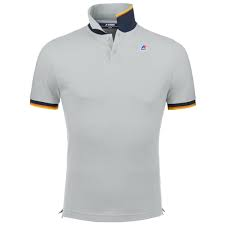S_polo shirt: (28, 12, 191, 225)
